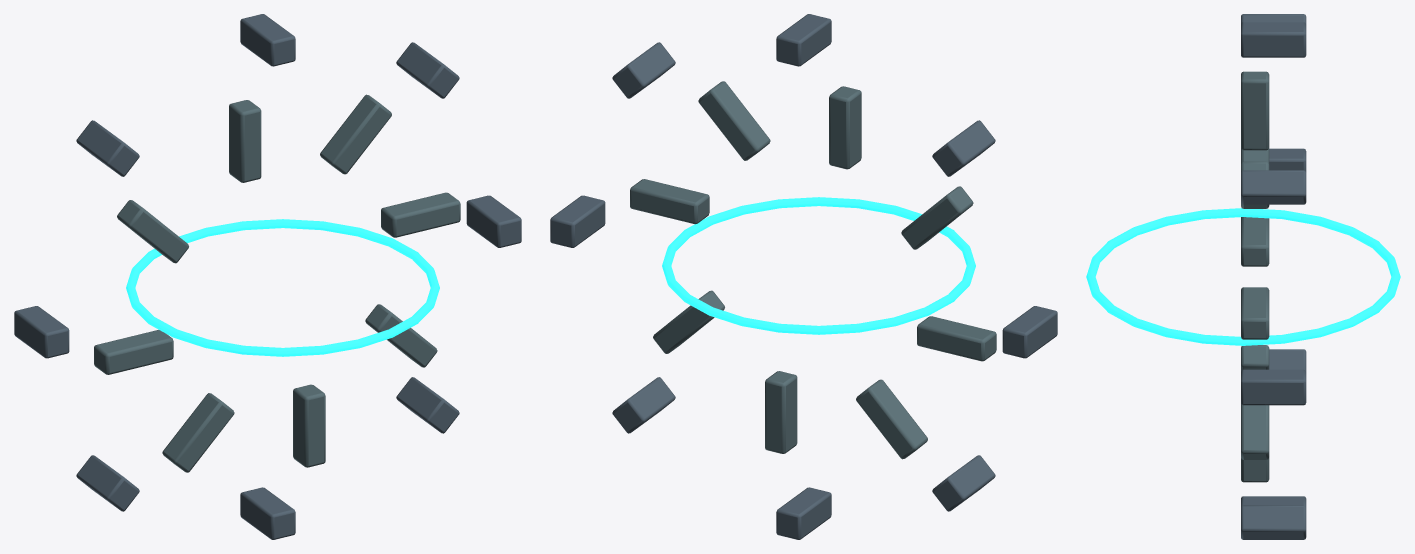
Rendered from env_boss_arena_archive_95_top3d_v001.glb.
3 renders of one model, left to right at view 1: azimuth 30°, elevation 25°; view 2: azimuth 150°, elevation 25°; view 3: azimuth 270°, elevation 25°, orthographic.
Visible parts, largest first — view 1: Arena_CentralDataRing, Arena_CoverPlinth_5, Arena_CoverPlinth_1, Arena_CoverPlinth_6, Arena_CoverPlinth_2, Arena_CoverPlinth_0, Arena_CoverPlinth_4, Arena_ArchivePillar_2, Arena_ArchivePillar_6, Arena_ArchivePillar_0, Arena_ArchivePillar_4, Arena_CoverPlinth_3 (+5 smaller); view 2: Arena_CentralDataRing, Arena_CoverPlinth_1, Arena_CoverPlinth_5, Arena_CoverPlinth_2, Arena_CoverPlinth_6, Arena_CoverPlinth_4, Arena_CoverPlinth_0, Arena_ArchivePillar_2, Arena_ArchivePillar_6, Arena_ArchivePillar_0, Arena_ArchivePillar_4, Arena_CoverPlinth_3 (+5 smaller); view 3: Arena_CentralDataRing, Arena_ArchivePillar_0, Arena_ArchivePillar_2, Arena_CoverPlinth_2, Arena_ArchivePillar_7, Arena_ArchivePillar_1, Arena_CoverPlinth_7, Arena_CoverPlinth_0, Arena_CoverPlinth_4, Arena_ArchivePillar_4, Arena_ArchivePillar_5, Arena_CoverPlinth_5 (+4 smaller).
Part boxes in pixels (left/top/right/bottom): Arena_CentralDataRing: left=126, top=219, right=439, bottom=356; Arena_CoverPlinth_5: left=162, top=393, right=234, bottom=472; Arena_CoverPlinth_1: left=320, top=94, right=391, bottom=174; Arena_CoverPlinth_6: left=293, top=384, right=325, bottom=467; Arena_CoverPlinth_2: left=229, top=100, right=261, bottom=182; Arena_CoverPlinth_0: left=381, top=192, right=460, bottom=237; Arena_CoverPlinth_4: left=94, top=330, right=173, bottom=374; Arena_ArchivePillar_2: left=240, top=14, right=295, bottom=66; Arena_ArchivePillar_6: left=240, top=487, right=295, bottom=539; Arena_ArchivePillar_0: left=466, top=195, right=521, bottom=247; Arena_ArchivePillar_4: left=14, top=306, right=69, bottom=358; Arena_CoverPlinth_3: left=117, top=200, right=188, bottom=263; Arena_CentralDataRing: left=662, top=197, right=975, bottom=334; Arena_CoverPlinth_1: left=698, top=81, right=770, bottom=160; Arena_CoverPlinth_5: left=856, top=379, right=927, bottom=459; Arena_CoverPlinth_2: left=829, top=86, right=861, bottom=169; Arena_CoverPlinth_6: left=765, top=371, right=797, bottom=453; Arena_CoverPlinth_4: left=917, top=316, right=996, bottom=361; Arena_CoverPlinth_0: left=630, top=179, right=709, bottom=224; Arena_ArchivePillar_2: left=776, top=14, right=831, bottom=66; Arena_ArchivePillar_6: left=776, top=487, right=831, bottom=539; Arena_ArchivePillar_0: left=550, top=195, right=605, bottom=247; Arena_ArchivePillar_4: left=1002, top=306, right=1057, bottom=358; Arena_CoverPlinth_3: left=901, top=186, right=973, bottom=249; Arena_CentralDataRing: left=1086, top=208, right=1400, bottom=345; Arena_ArchivePillar_0: left=1241, top=369, right=1306, bottom=405; Arena_ArchivePillar_2: left=1241, top=22, right=1306, bottom=57; Arena_CoverPlinth_2: left=1241, top=71, right=1269, bottom=150; Arena_ArchivePillar_7: left=1241, top=505, right=1306, bottom=539; Arena_ArchivePillar_1: left=1241, top=170, right=1306, bottom=204; Arena_CoverPlinth_7: left=1241, top=403, right=1269, bottom=459; Arena_CoverPlinth_0: left=1241, top=287, right=1269, bottom=339; Arena_CoverPlinth_4: left=1241, top=217, right=1269, bottom=266; Arena_ArchivePillar_4: left=1269, top=148, right=1306, bottom=172; Arena_ArchivePillar_5: left=1269, top=349, right=1306, bottom=371; Arena_CoverPlinth_5: left=1241, top=345, right=1269, bottom=371.
Bounding box in the file's own units: 25.3 × 25.3 × 14.43.
